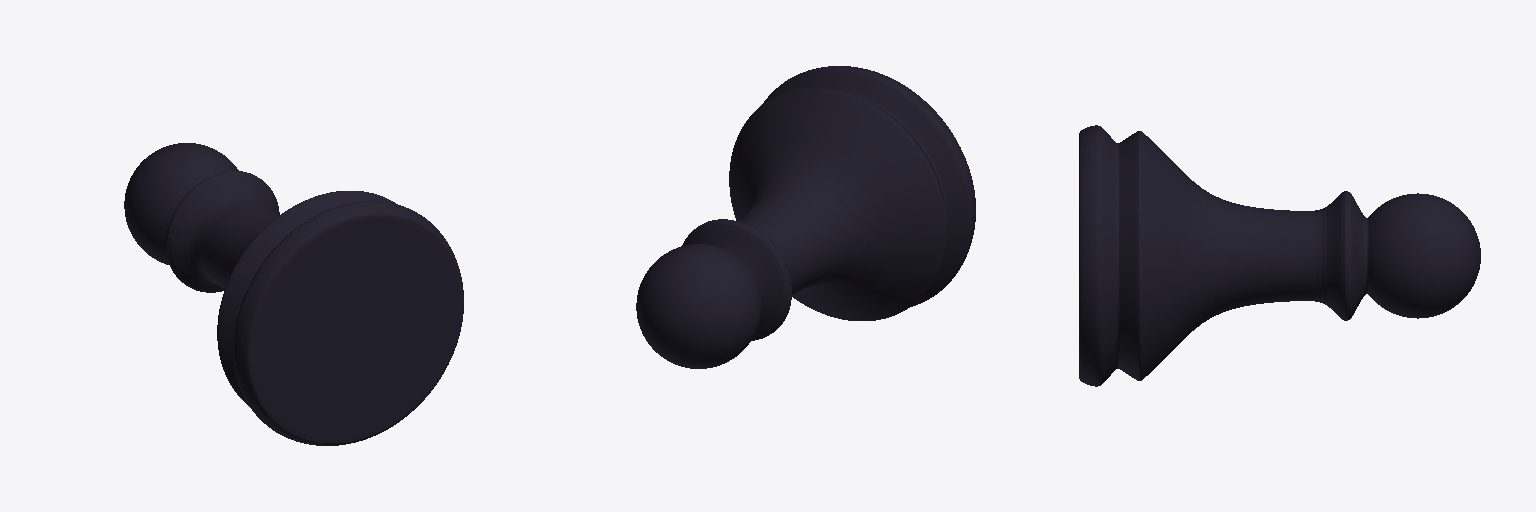
File: pawn.obj
3 views of the same model, side by side, from view 1: azimuth 30°, elevation 25°; view 2: azimuth 150°, elevation 25°; view 3: azimuth 270°, elevation 25° (orthographic).
Parts seen in each view (by area): view 1: Circle; view 2: Circle; view 3: Circle.
Part boxes in pixels (left/top/right/bottom): Circle: left=124, top=143, right=463, bottom=445; Circle: left=636, top=66, right=975, bottom=368; Circle: left=1079, top=125, right=1480, bottom=386.
Bounding box in the file's own units: 0.0238 × 0.0238 × 0.0367.